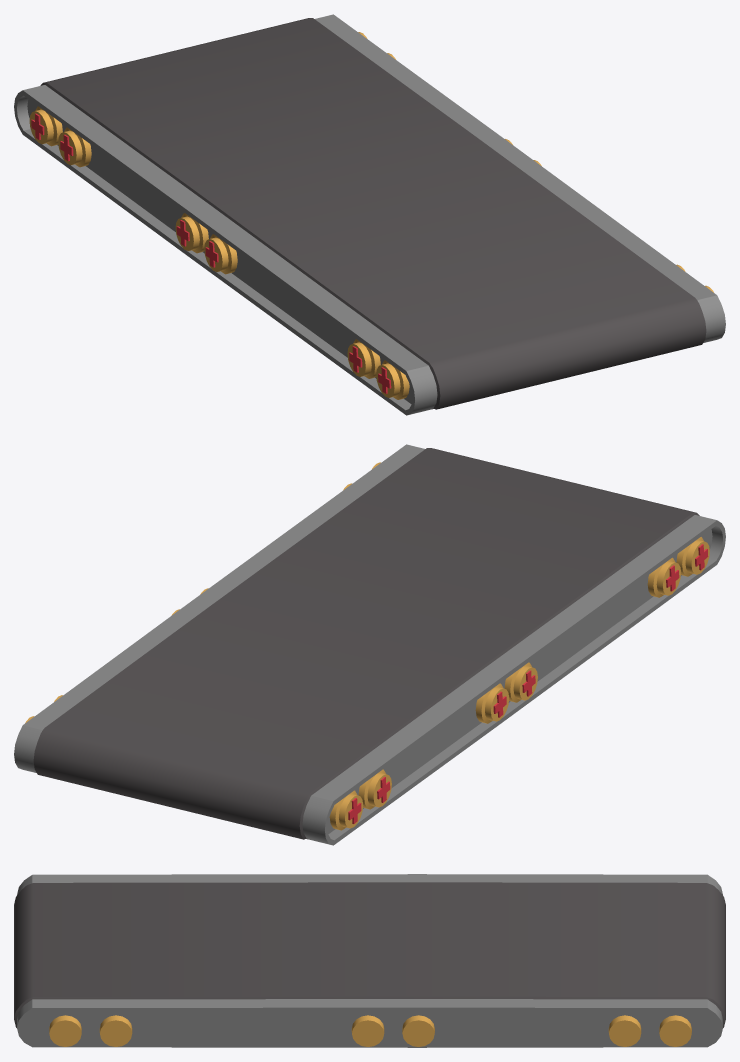
Rendered from cinta.fbx.
The picture shows the model from 3 angles, top to bottom: view 1: azimuth 30°, elevation 25°; view 2: azimuth 150°, elevation 25°; view 3: azimuth 270°, elevation 25°; orthographic projection. The views are drawn at different scales.
Visible parts, largest first — view 1: Cylinder.021, Cylinder.017, Cylinder.015, Cylinder.019, Cylinder.018, Cylinder.020, Cylinder.016; view 2: Cylinder.021, Cylinder.018, Cylinder.020, Cylinder.016, Cylinder.017, Cylinder.015, Cylinder.019; view 3: Cylinder.021, Cylinder.015, Cylinder.020, Cylinder.017, Cylinder.018, Cylinder.016, Cylinder.019.
Boxes of the visible parts, x1,y1,x2,y2 form: Cylinder.021: (14, 14, 725, 415); Cylinder.017: (204, 160, 541, 274); Cylinder.015: (58, 53, 395, 167); Cylinder.019: (376, 285, 713, 399); Cylinder.018: (175, 139, 512, 253); Cylinder.020: (347, 264, 685, 378); Cylinder.016: (29, 32, 367, 146); Cylinder.021: (14, 444, 725, 845); Cylinder.018: (171, 609, 509, 723); Cylinder.020: (343, 483, 681, 597); Cylinder.016: (25, 716, 363, 830); Cylinder.017: (200, 588, 537, 702); Cylinder.015: (54, 695, 391, 809); Cylinder.019: (372, 462, 709, 576); Cylinder.021: (14, 874, 725, 1047); Cylinder.015: (608, 1015, 641, 1046); Cylinder.020: (99, 1015, 132, 1046); Cylinder.017: (351, 1015, 384, 1046); Cylinder.018: (402, 1015, 434, 1046); Cylinder.016: (659, 1015, 691, 1046); Cylinder.019: (49, 1015, 81, 1046).
Size of the model in its own units: 560 by 78.54 by 1203.
